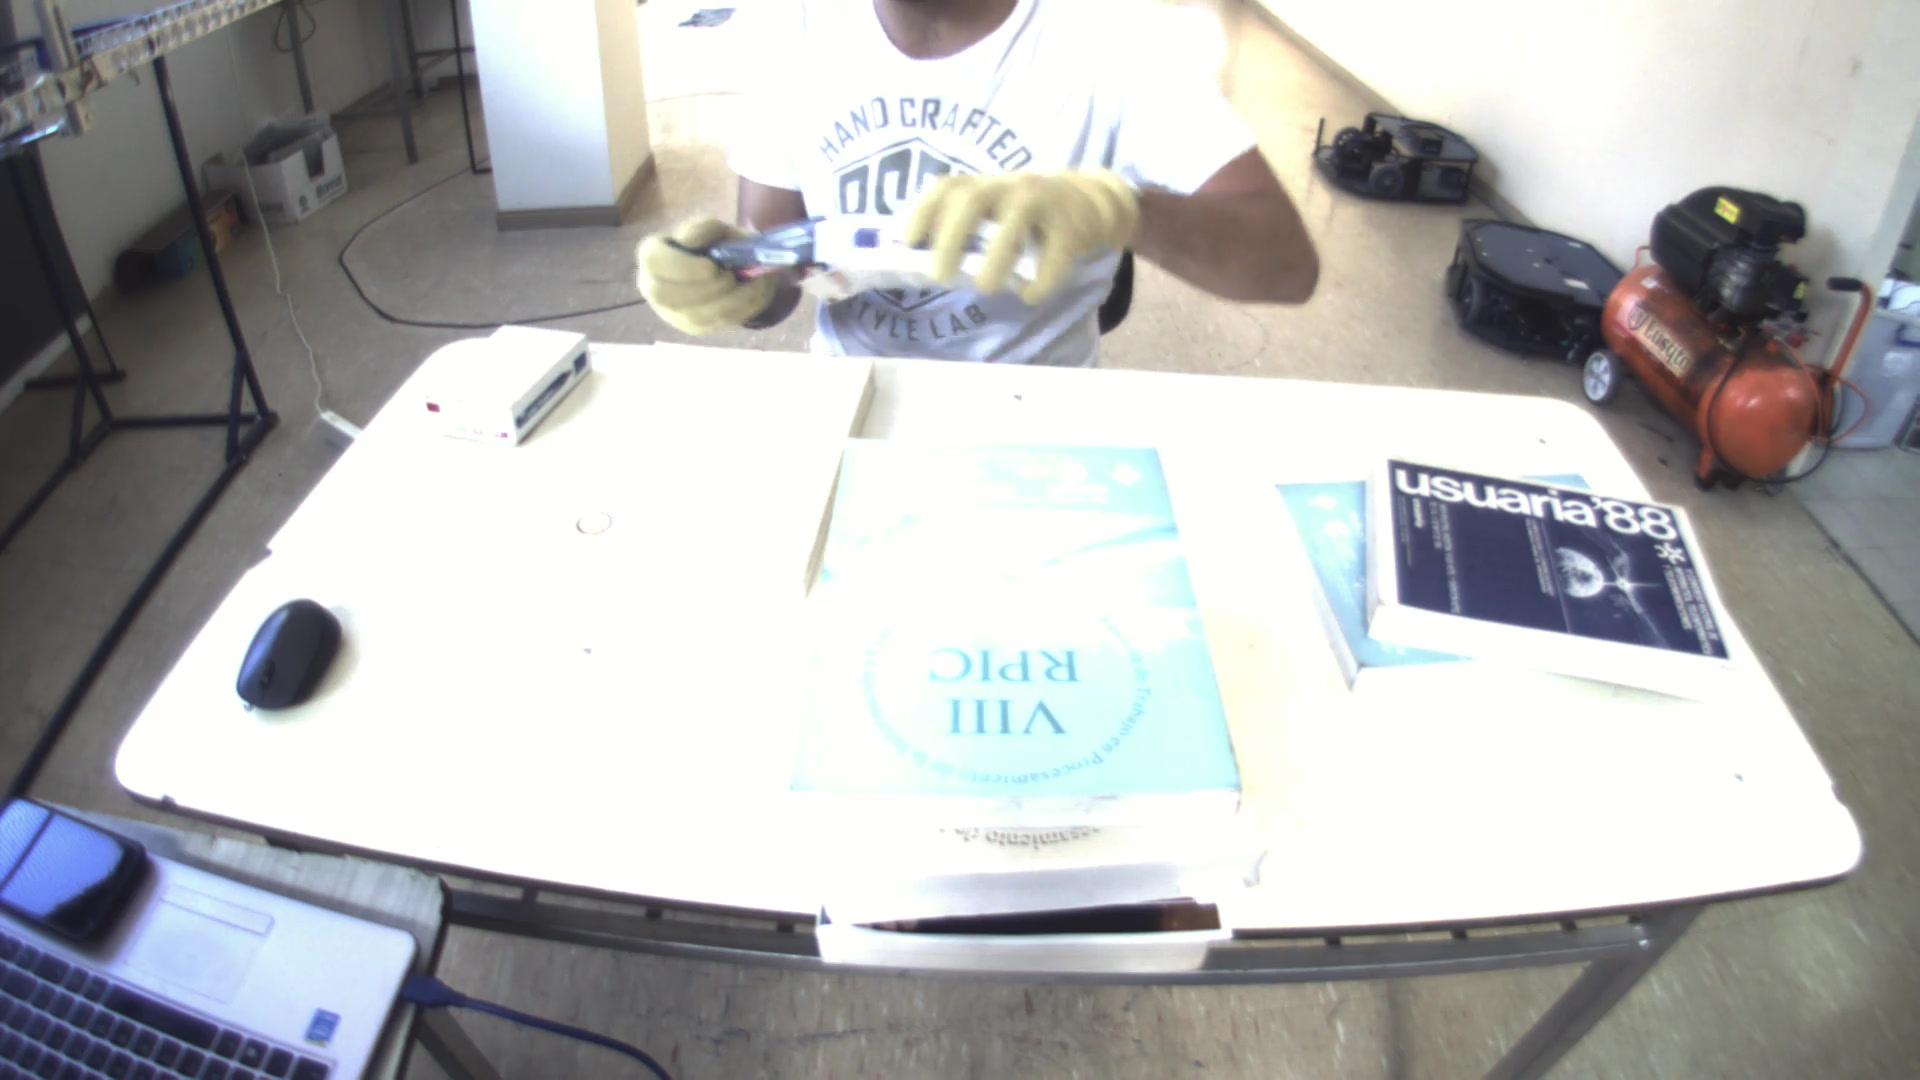hand: (893, 142, 1149, 305), (622, 222, 786, 342)
